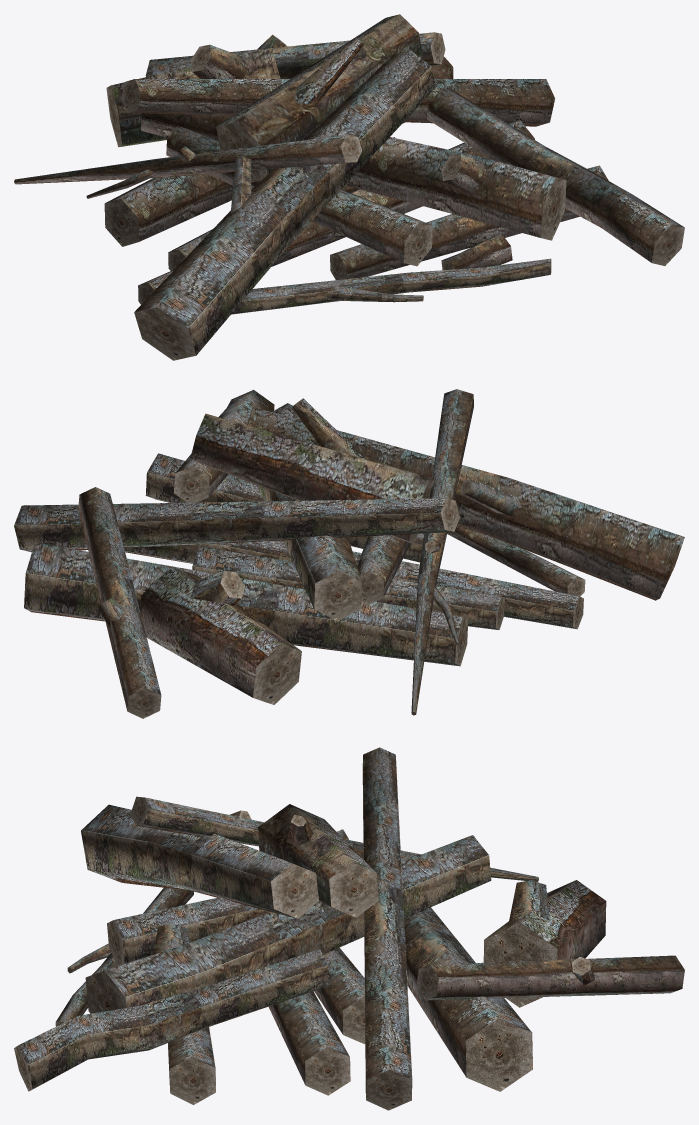
Rendered from Prop_Pve01Mudui01_lod1.glb.
3 renders of one model, top to bottom at view 1: azimuth 30°, elevation 25°; view 2: azimuth 150°, elevation 25°; view 3: azimuth 270°, elevation 25°, orthographic. The views are drawn at different scales.
Parts seen in each view (by area): view 1: pve01_mudui_01_lod1; view 2: pve01_mudui_01_lod1; view 3: pve01_mudui_01_lod1.
Boxes of the visible parts, x1,y1,x2,y2 form: pve01_mudui_01_lod1: (14, 14, 684, 360); pve01_mudui_01_lod1: (14, 389, 684, 718); pve01_mudui_01_lod1: (14, 747, 684, 1110).
Bounding box in the file's own units: 1.85 × 0.6518 × 1.94.
1 material, 1 textured.
